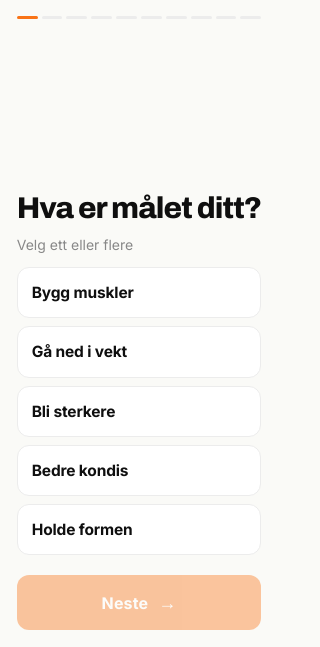
Test case: OnboardingWizard — required steps › PATCHes goals when advancing past step 4
This screenshot has width=320, height=647.
Click the button "Bygg muskler": (139, 293) left=17, top=267, right=261, bottom=318
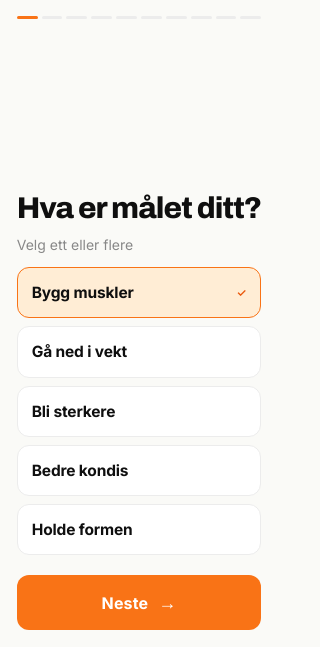
Click the button "Neste →": (139, 603) left=17, top=575, right=261, bottom=630
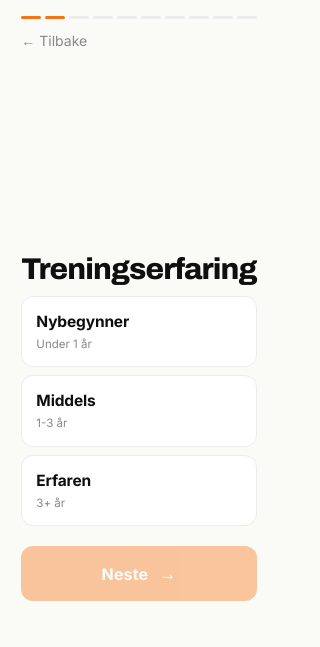
Expected: the heading "Treningserfaring" is shown, left=21, top=256, right=257, bottom=284
